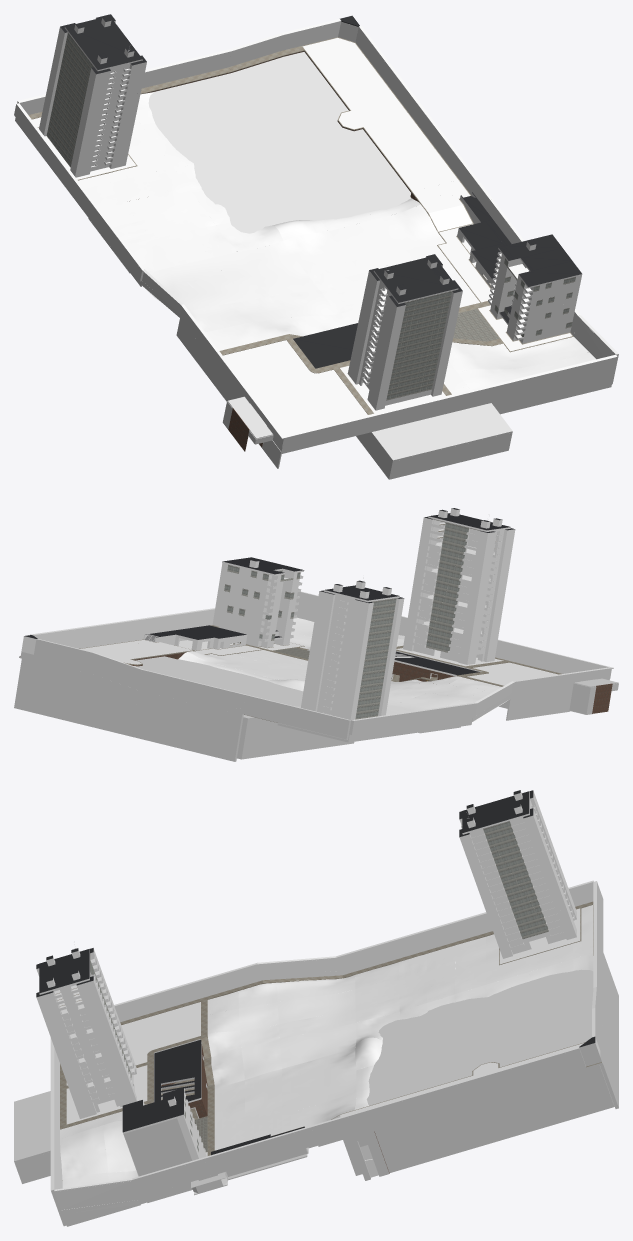
File: Garry&#39;s_Map_Construct_(gm_construct).glb
The picture shows the model from 3 angles, top to bottom: view 1: azimuth 30°, elevation 25°; view 2: azimuth 150°, elevation 25°; view 3: azimuth 270°, elevation 25°; orthographic projection. The views are drawn at different scales.
Visible parts, largest first — view 1: GeometryNode_9940, GeometryNode_11798, GeometryNode_35347, GeometryNode_31506, GeometryNode_35527, GeometryNode_35482, GeometryNode_35437, GeometryNode_35617, GeometryNode_6591, GeometryNode_10170, GeometryNode_25818, GeometryNode_10096 (+57 smaller); view 2: GeometryNode_12008, GeometryNode_11634, GeometryNode_31468, GeometryNode_9940, GeometryNode_9932, GeometryNode_2967, GeometryNode_10129, GeometryNode_3031, GeometryNode_10216, GeometryNode_10096, GeometryNode_24884, GeometryNode_5021 (+43 smaller); view 3: GeometryNode_9940, GeometryNode_10276, GeometryNode_26164, GeometryNode_6042, GeometryNode_35347, GeometryNode_10216, GeometryNode_3039, GeometryNode_10254, GeometryNode_31506, GeometryNode_35617, GeometryNode_6144, GeometryNode_35257 (+51 smaller).
Boxes of the visible parts, x1,y1,x2,y2 form: GeometryNode_9940: [148, 52, 411, 233]; GeometryNode_11798: [302, 38, 458, 191]; GeometryNode_35347: [223, 340, 338, 416]; GeometryNode_31506: [371, 403, 512, 461]; GeometryNode_35527: [283, 231, 364, 289]; GeometryNode_35482: [374, 204, 446, 262]; GeometryNode_35437: [329, 219, 405, 278]; GeometryNode_35617: [238, 241, 318, 295]; GeometryNode_6591: [396, 294, 440, 397]; GeometryNode_10170: [374, 255, 457, 302]; GeometryNode_25818: [65, 16, 142, 69]; GeometryNode_10096: [367, 296, 405, 410]; GeometryNode_12008: [131, 690, 224, 757]; GeometryNode_11634: [14, 658, 89, 724]; GeometryNode_31468: [426, 522, 468, 652]; GeometryNode_9940: [134, 656, 303, 718]; GeometryNode_9932: [237, 717, 354, 759]; GeometryNode_2967: [81, 673, 138, 736]; GeometryNode_10129: [458, 531, 495, 664]; GeometryNode_3031: [349, 704, 476, 734]; GeometryNode_10216: [403, 517, 439, 651]; GeometryNode_10096: [477, 529, 515, 661]; GeometryNode_24884: [358, 599, 390, 718]; GeometryNode_5021: [243, 696, 350, 734]; GeometryNode_9940: [366, 969, 593, 1105]; GeometryNode_10276: [374, 1065, 614, 1172]; GeometryNode_26164: [483, 821, 548, 939]; GeometryNode_6042: [312, 1073, 500, 1141]; GeometryNode_35347: [121, 1002, 200, 1058]; GeometryNode_10216: [77, 977, 136, 1107]; GeometryNode_3039: [336, 883, 593, 970]; GeometryNode_10254: [36, 992, 96, 1118]; GeometryNode_31506: [14, 1091, 50, 1162]; GeometryNode_35617: [279, 1023, 356, 1068]; GeometryNode_6144: [204, 1128, 317, 1176]; GeometryNode_35257: [60, 1125, 108, 1178].
Bounding box in the file's own units: 78.24 × 59.97 × 110.
Materials: 68 (8 with a texture image).
